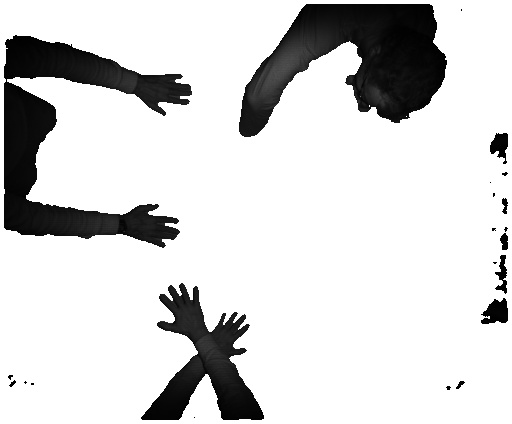hand: (152, 280, 208, 343), (124, 200, 183, 247), (142, 72, 191, 119), (214, 312, 255, 361)
